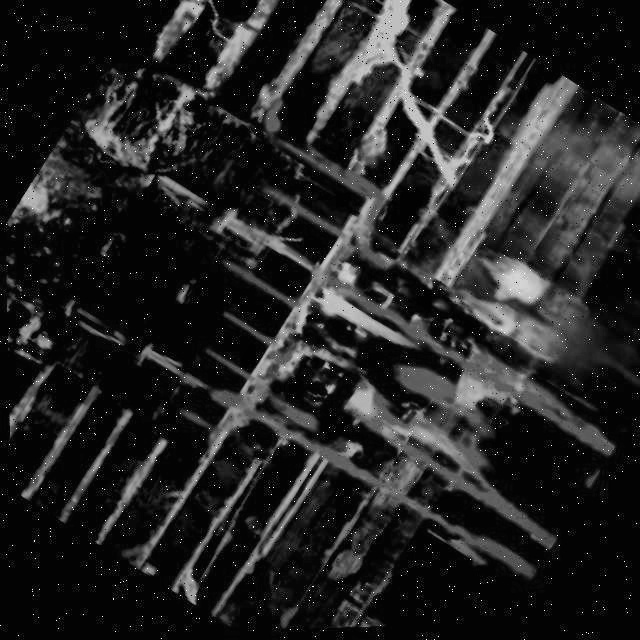Fire: (255, 271, 529, 511)
